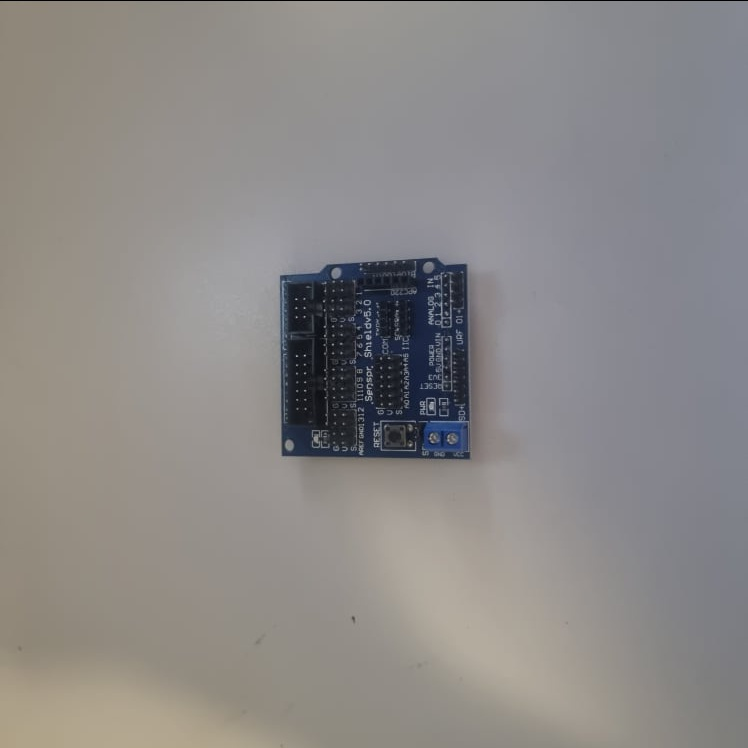5V EXPANSION: (278, 251, 473, 458)
